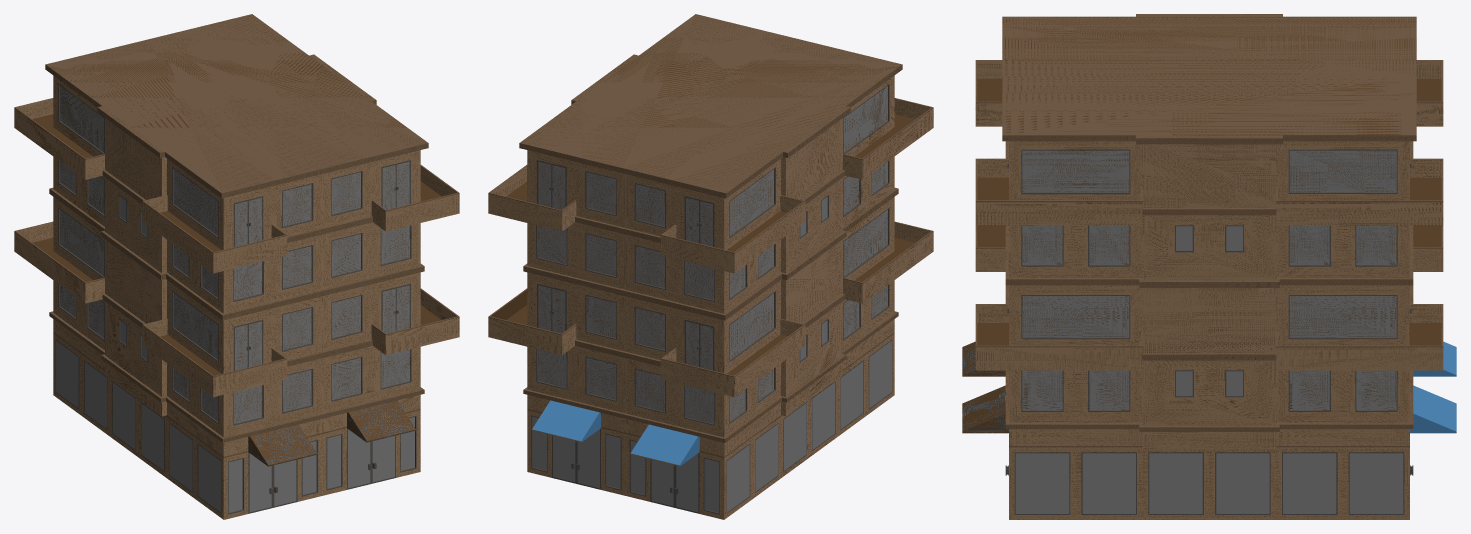
File: new_H_MIX2.dae
The picture shows the model from 3 angles, left to right: view 1: azimuth 30°, elevation 25°; view 2: azimuth 150°, elevation 25°; view 3: azimuth 270°, elevation 25°; orthographic projection. The views are drawn at different scales.
Parts seen in each view (by area): view 1: Rowhouse_Left_End_1 (×38), Rowhouse_Left_End (×2), Retail_Doors (×4), group_2 (×4), group_3 (×4); view 2: Rowhouse_Left_End_1 (×42), Rowhouse_Left_End (×2), Retail_Doors (×4), group_1 (×4); view 3: Rowhouse_Left_End_1 (×41), Rowhouse_Left_End (×2).
Boxes of the visible parts, x1,y1,x2,y2 form: Rowhouse_Left_End_1 (×38): (32,14,428,512); Rowhouse_Left_End (×2): (14,75,459,519); Retail_Doors (×4): (249,429,394,512); group_2 (×4): (235,285,409,370); group_3 (×4): (235,161,409,246); Rowhouse_Left_End_1 (×42): (519,14,915,512); Rowhouse_Left_End (×2): (488,75,933,519); Retail_Doors (×4): (553,429,698,512); group_1 (×4): (538,161,712,246); Rowhouse_Left_End_1 (×41): (962,14,1456,513); Rowhouse_Left_End (×2): (975,60,1443,519).
Bounding box in the file's own units: 600 × 888 × 768.
